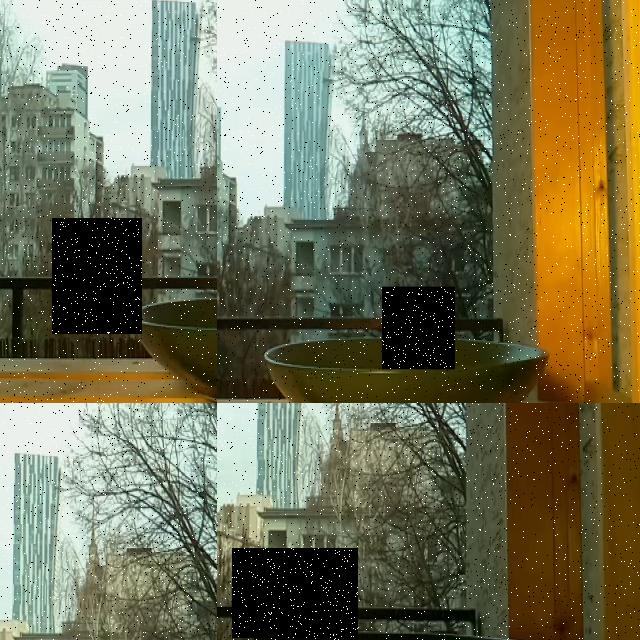Bogatka: (52, 218, 142, 334)
Wrobel: (232, 548, 358, 640), (382, 287, 455, 369)
